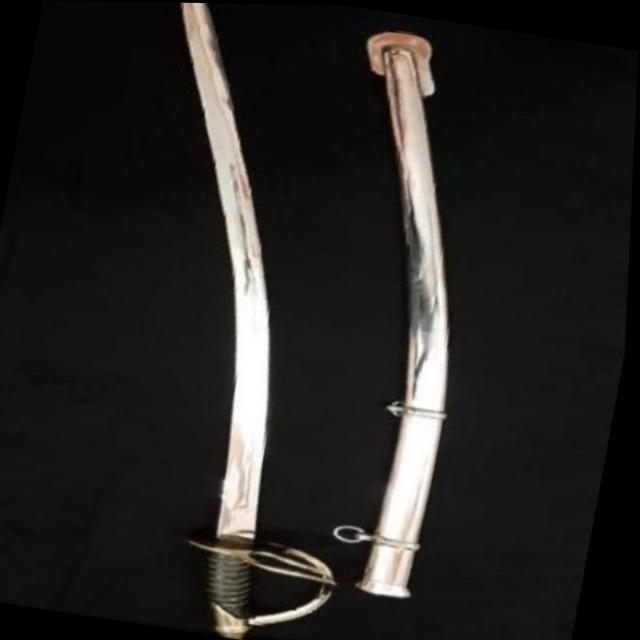weapon: (69, 1, 440, 640), (272, 20, 516, 600)
